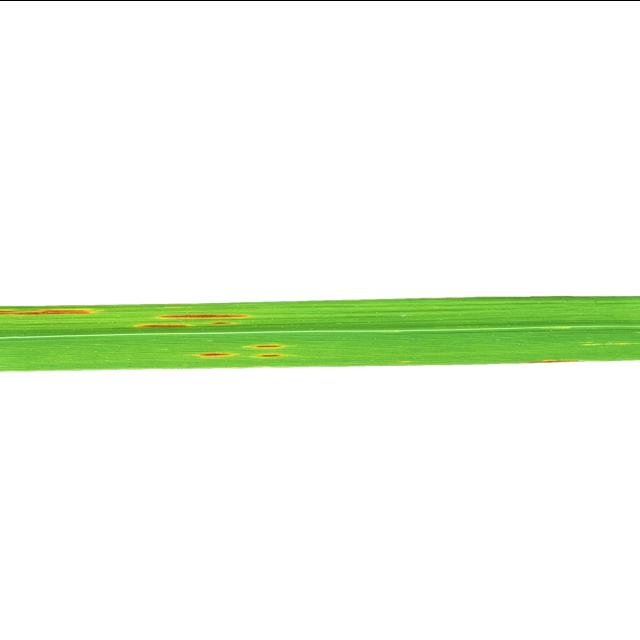Narrow brown: (0, 236, 640, 417)
